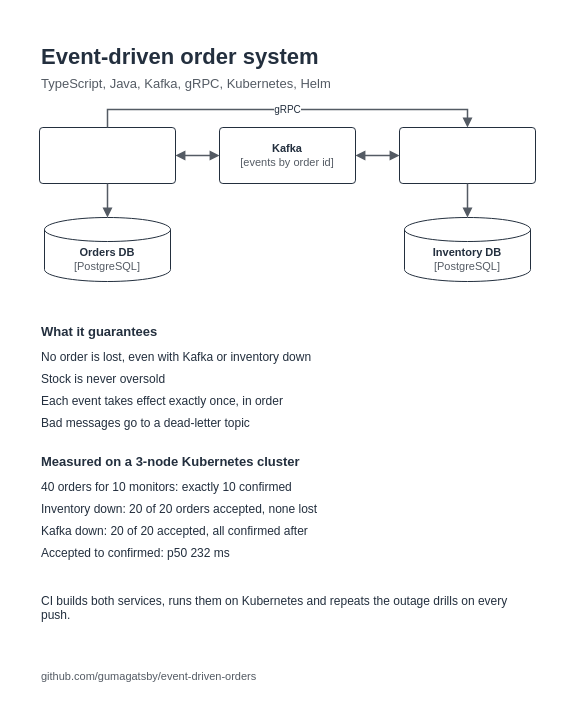
Some shapes in this 574 by 709 pixel diagram are drawn without their labels. Here are the shapes that lost their labels. From the top down, the centre of each, then its label:
At (107,155): "Orders [TypeScript, NestJS]".
At (467,155): "Inventory [Java, Spring Boot]".
